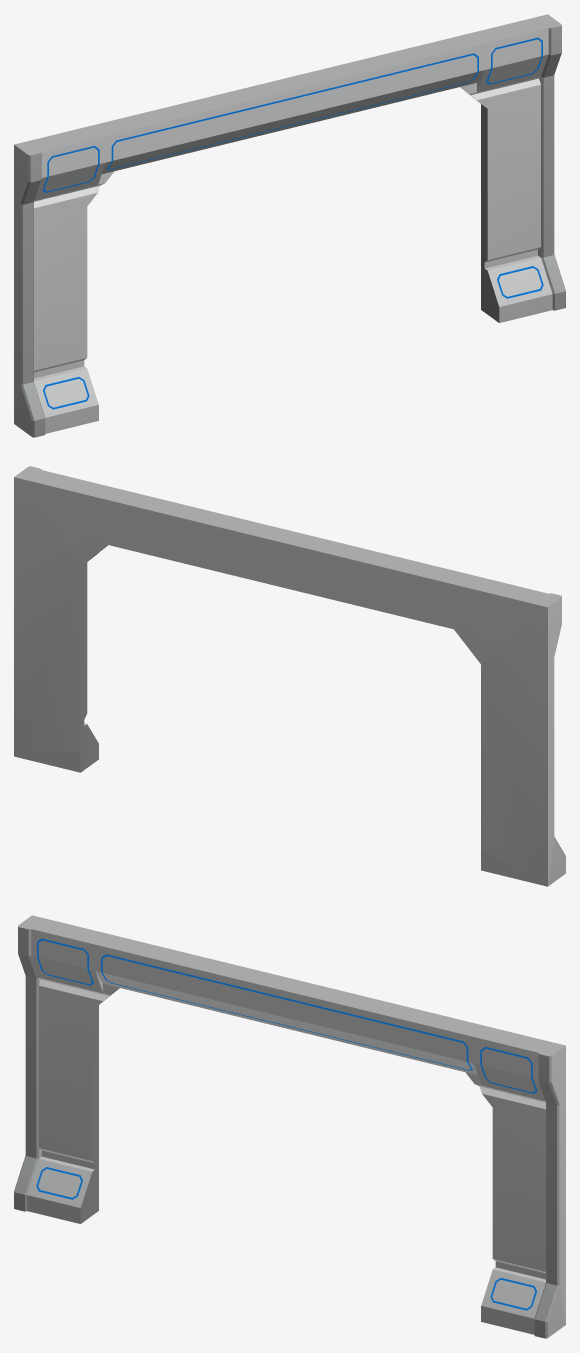
File: Wall_type_A_063.glb
3 renders of one model, top to bottom at view 1: azimuth 30°, elevation 25°; view 2: azimuth 150°, elevation 25°; view 3: azimuth 330°, elevation 25°, orthographic.
Visible parts, largest first — view 1: Wall_type_A_063; view 2: Wall_type_A_063; view 3: Wall_type_A_063.
Boxes of the visible parts, x1,y1,x2,y2 form: Wall_type_A_063: [14, 14, 565, 437]; Wall_type_A_063: [14, 466, 565, 886]; Wall_type_A_063: [14, 915, 565, 1338].
Bounding box in the file's own units: 8 × 4 × 0.5.
2 materials, 2 textured.
